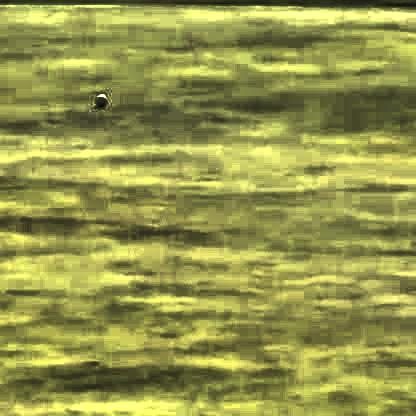golfball: (94, 87, 104, 103)
